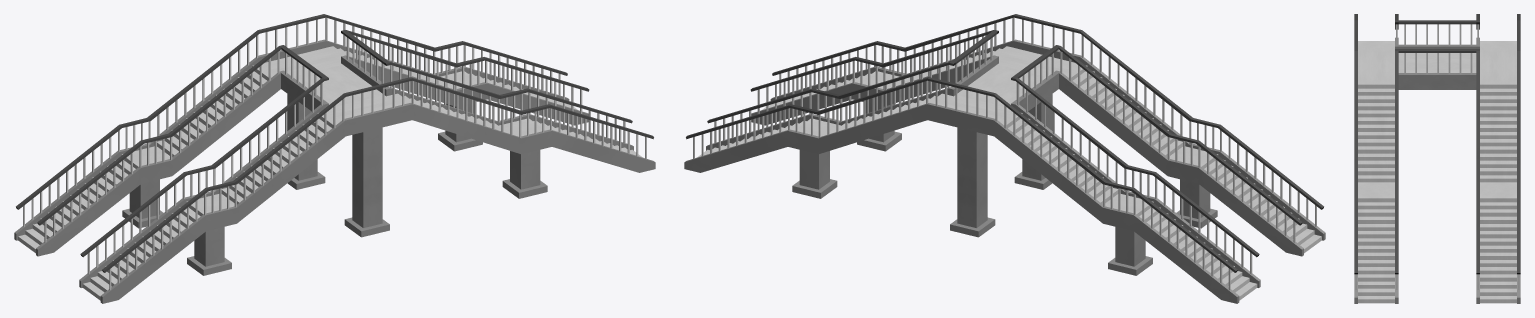
The model's file is bridge.fbx.
The picture shows the model from 3 angles, left to right: view 1: azimuth 30°, elevation 25°; view 2: azimuth 150°, elevation 25°; view 3: azimuth 270°, elevation 25°; orthographic projection. The views are drawn at different scales.
Parts seen in each view (by area): view 1: LTypeStair016, LTypeStair015, Object843; view 2: LTypeStair015, LTypeStair016, Object843; view 3: LTypeStair015, LTypeStair016, Object843.
Boxes of the visible parts, x1,y1,x2,y2 form: LTypeStair016: [79, 61, 655, 303]; LTypeStair015: [14, 14, 589, 256]; Object843: [281, 31, 388, 111]; LTypeStair015: [684, 61, 1260, 303]; LTypeStair016: [750, 14, 1325, 256]; Object843: [951, 31, 1058, 111]; LTypeStair015: [1476, 14, 1520, 303]; LTypeStair016: [1354, 14, 1398, 303]; Object843: [1398, 20, 1476, 89].
Size of the model in its own units: 2444 by 633 by 676.
